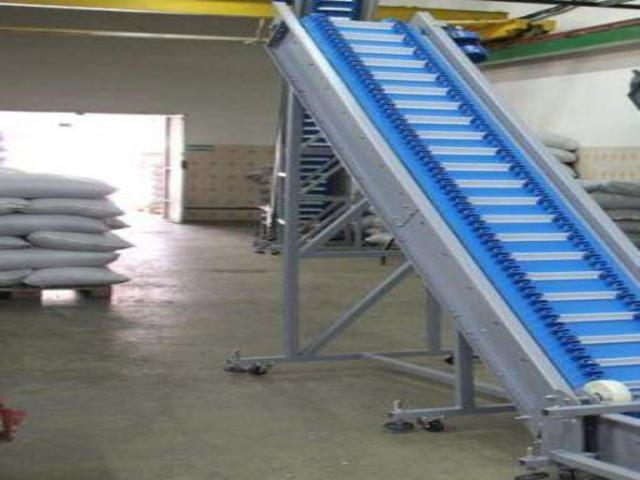conveyor: (271, 7, 640, 438)
